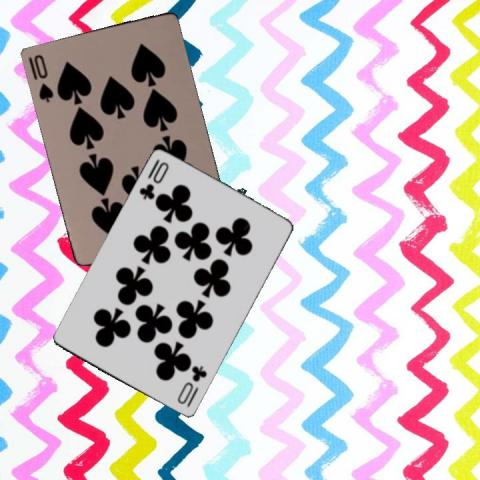10c: (174, 363, 209, 409), (136, 157, 171, 202)
10s: (30, 51, 55, 103)
